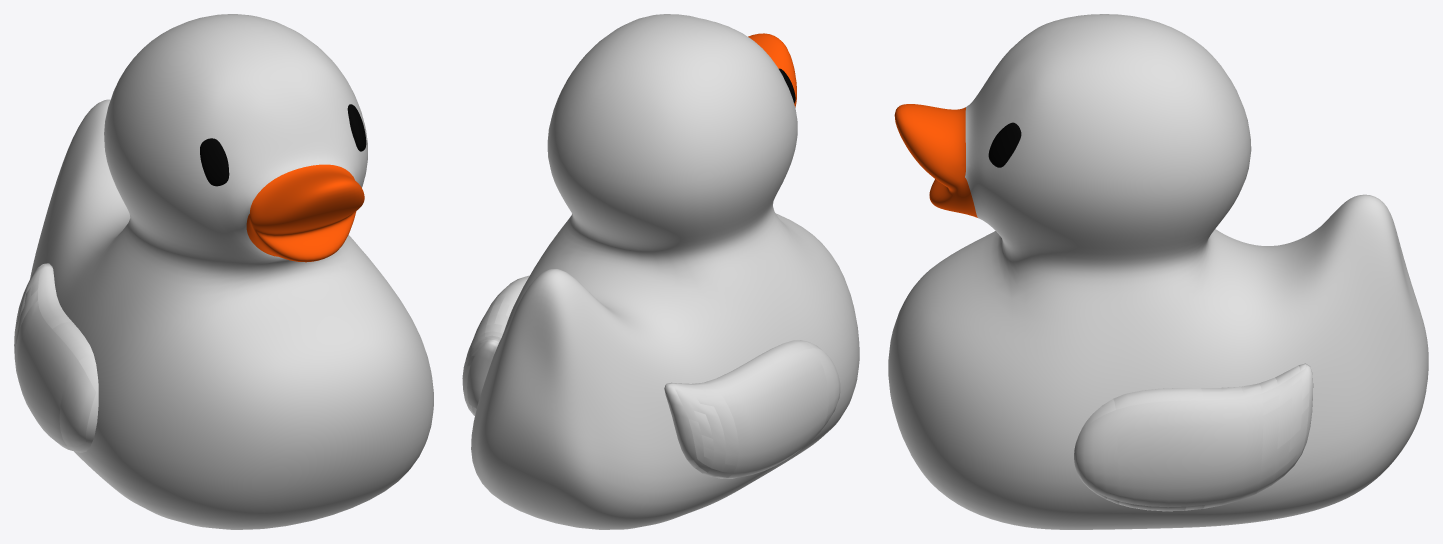
File: duck.fbx
The picture shows the model from 3 angles, left to right: view 1: azimuth 30°, elevation 25°; view 2: azimuth 150°, elevation 25°; view 3: azimuth 270°, elevation 25°; orthographic projection. The views are drawn at different scales.
Visible parts, largest first — view 1: Object_4, Object_5, Object_9; view 2: Object_4, Object_5; view 3: Object_4, Object_5, Object_9.
Part boxes in pixels (x1,y1,x2,y2): Object_4: (14,14,433,529); Object_5: (246,164,364,262); Object_9: (200,104,366,186); Object_4: (462,14,859,529); Object_5: (748,33,796,107); Object_4: (888,14,1428,529); Object_5: (894,104,977,217); Object_9: (988,122,1021,167).
Bounding box in the file's own units: 384 × 490 × 512.
